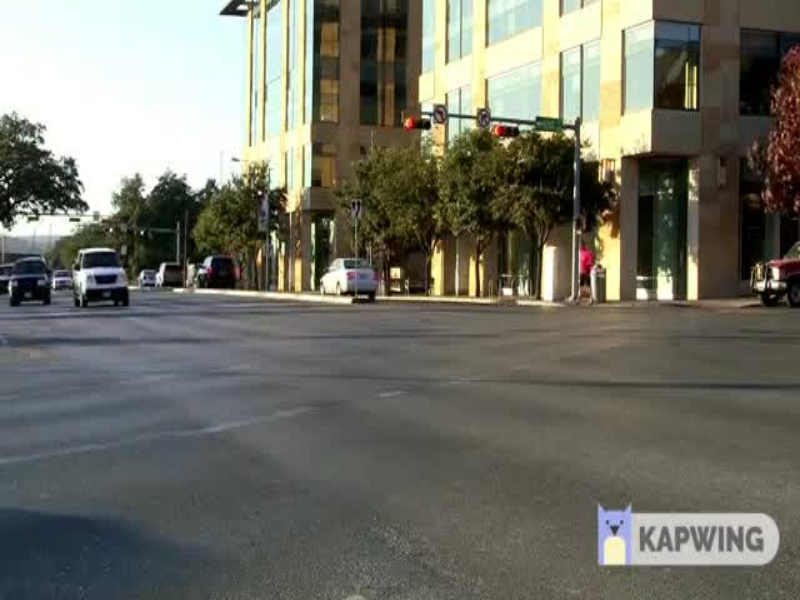car: (69, 245, 132, 312), (313, 251, 383, 299), (5, 254, 61, 309)
